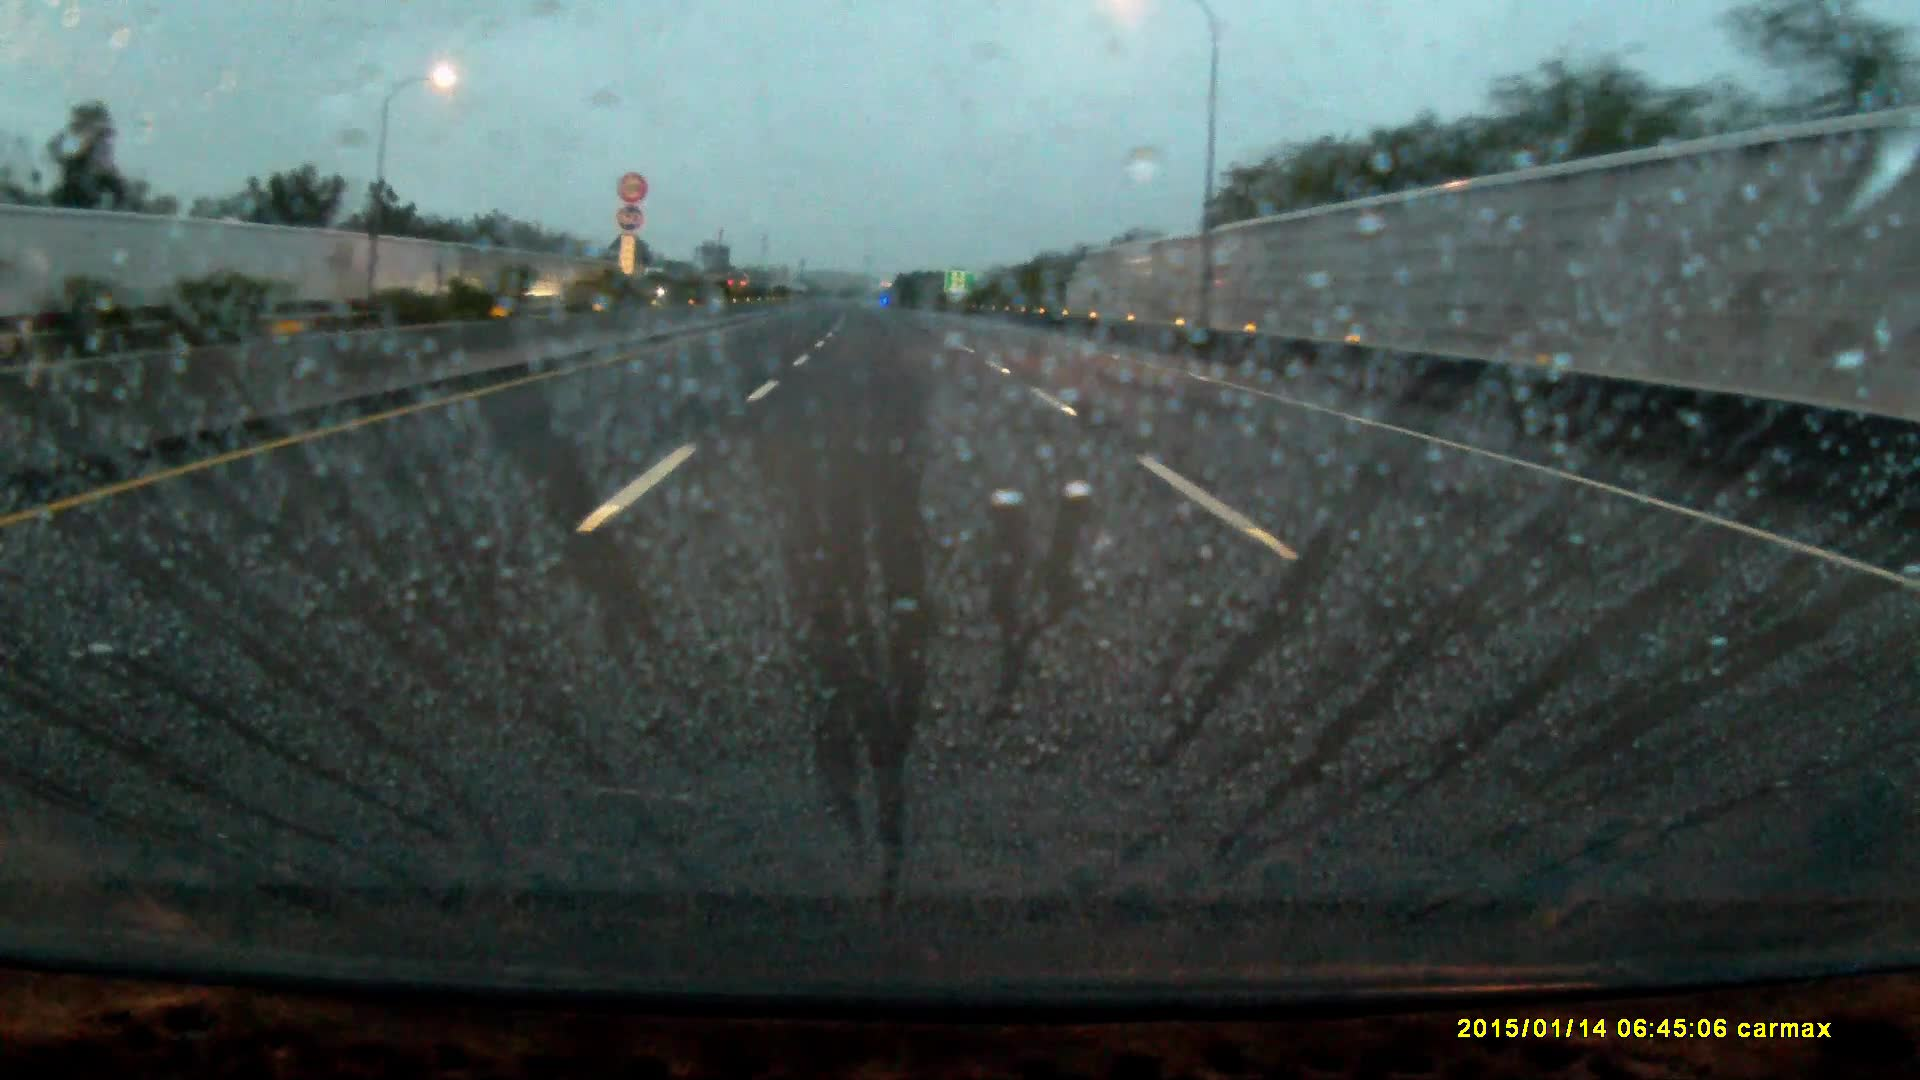vehicle: (727, 276, 753, 302)
